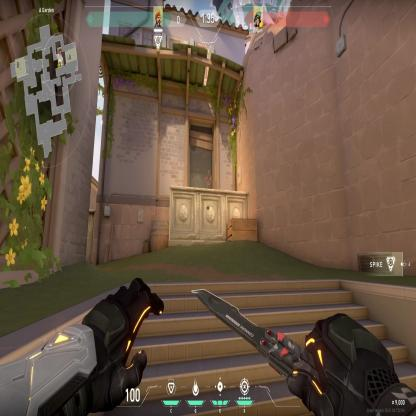enemy: (204, 168, 212, 189)
